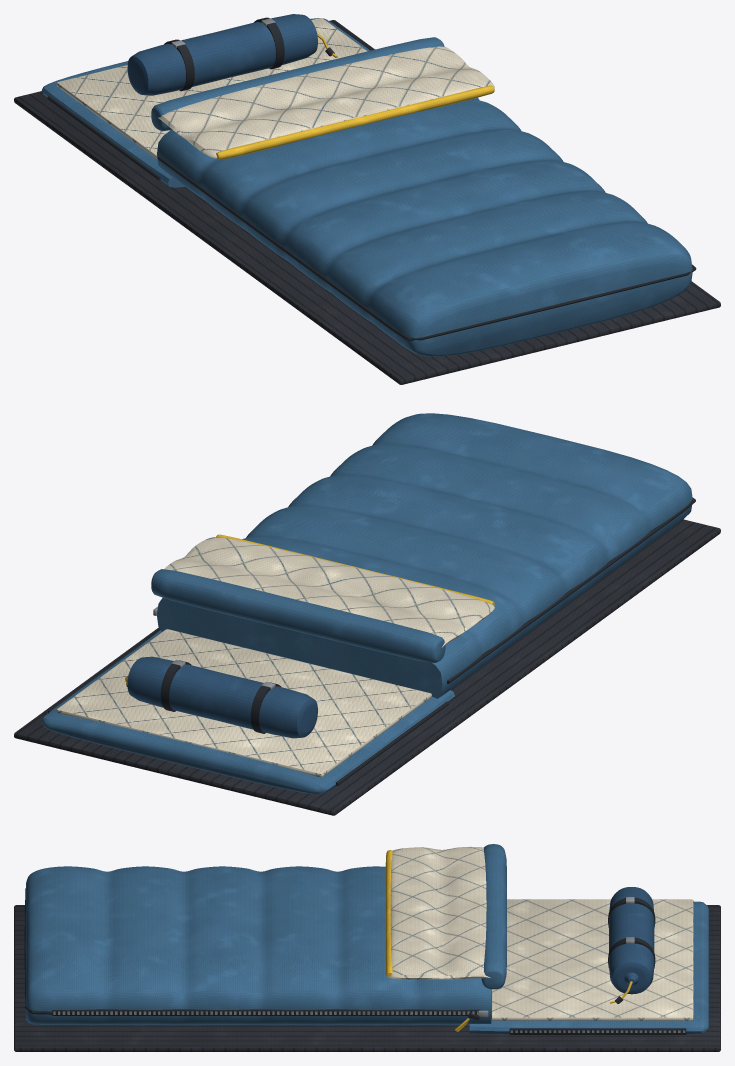
Rendered from respawn_bed.glb.
3 views of the same model, one above another, from view 1: azimuth 30°, elevation 25°; view 2: azimuth 150°, elevation 25°; view 3: azimuth 270°, elevation 25° (orthographic). The views are drawn at different scales.
Parts seen in each view (by area): view 1: Body; view 2: Body; view 3: Body.
Boxes of the visible parts, box(x1,y1,x2,y2) form: Body: box(14, 14, 720, 384); Body: box(14, 413, 720, 815); Body: box(14, 844, 720, 1051).
Bounding box in the file's own units: 0.93 × 0.2322 × 1.94.
9 materials, 9 textured.
